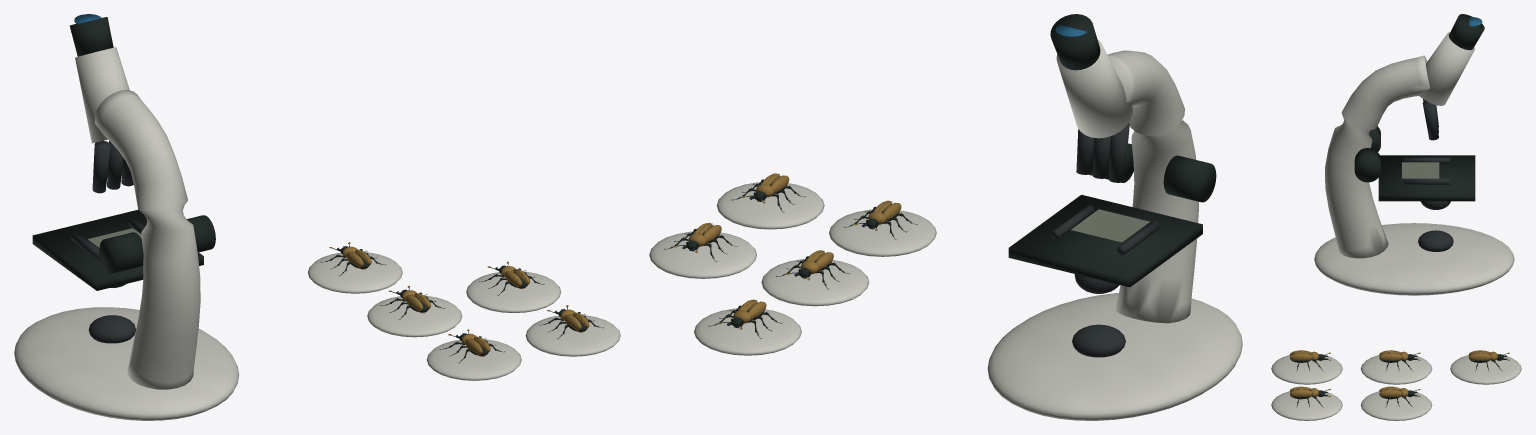
3 views of the same model, side by side, from view 1: azimuth 30°, elevation 25°; view 2: azimuth 150°, elevation 25°; view 3: azimuth 270°, elevation 25° (orthographic). The views are drawn at different scales.
Parts seen in each view (by area): view 1: L02_SPEC_Chitin.002_export; view 2: L02_SPEC_Chitin.002_export; view 3: L02_SPEC_Chitin.002_export.
Part boxes in pixels (<box>): L02_SPEC_Chitin.002_export: <box>14,14,620,420</box>; L02_SPEC_Chitin.002_export: <box>649,14,1242,420</box>; L02_SPEC_Chitin.002_export: <box>1271,14,1521,420</box>.
Size of the model in its own units: 1.23 by 0.7933 by 0.7.
